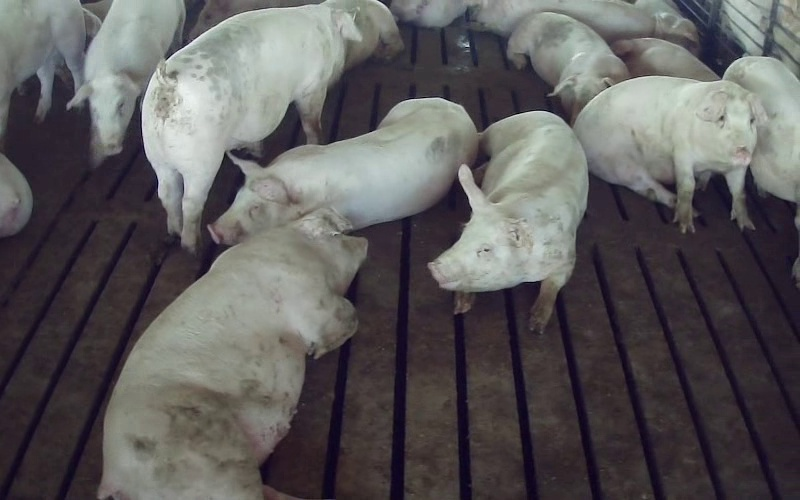pig: (98, 209, 365, 499), (142, 4, 360, 252), (208, 98, 477, 244), (428, 111, 587, 332), (574, 76, 765, 232), (507, 12, 628, 122), (723, 56, 799, 203), (469, 0, 654, 42), (611, 38, 719, 81)
